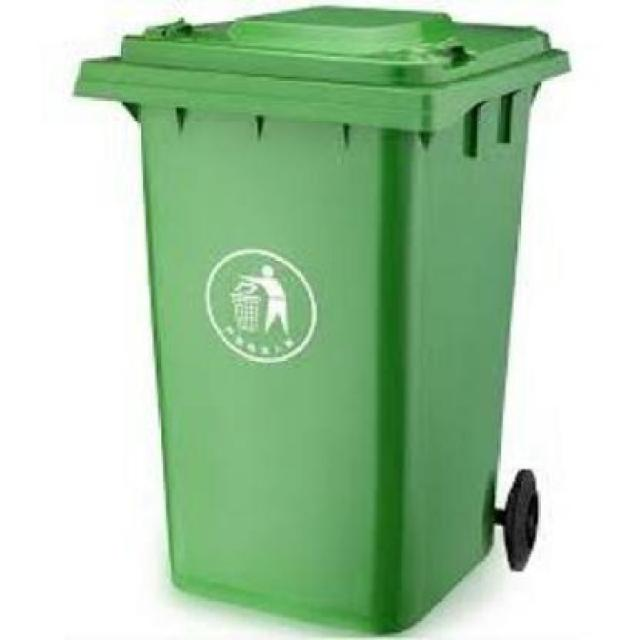garbage container: (58, 1, 558, 640)
